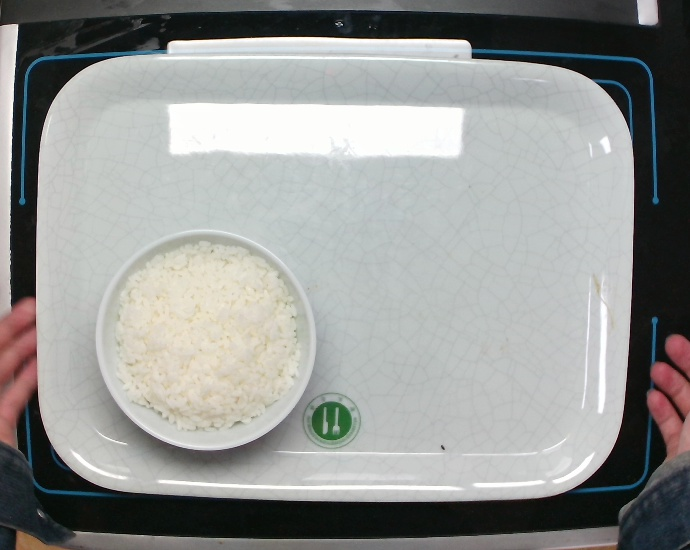JYsf-Fan_Wan: (92, 226, 318, 453)
